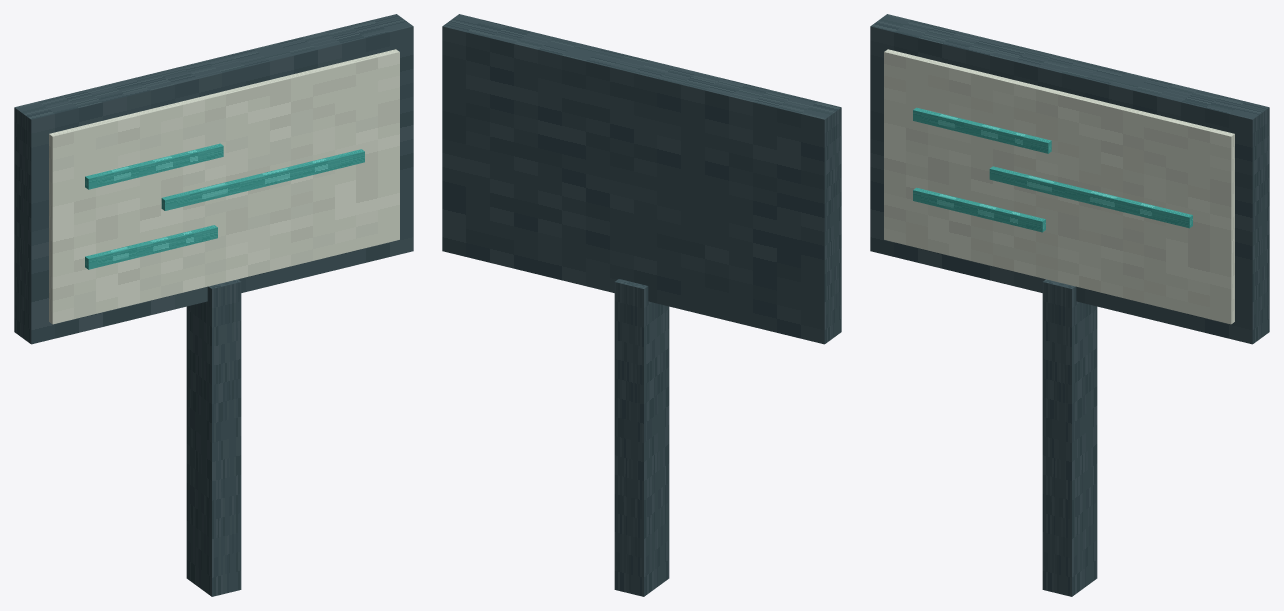
The model's file is whiteboard.glb.
3 renders of one model, left to right at view 1: azimuth 30°, elevation 25°; view 2: azimuth 150°, elevation 25°; view 3: azimuth 330°, elevation 25°, orthographic.
Parts seen in each view (by area): view 1: block-2, block-1, block-0, block-4, block-3, block-5; view 2: block-1, block-0; view 3: block-2, block-1, block-0, block-4, block-3, block-5.
Part boxes in pixels (x1=…): block-2: x1=49, y1=49, x2=399, y2=324; block-1: x1=14, y1=14, x2=413, y2=344; block-0: x1=186, y1=279, x2=241, y2=596; block-4: x1=161, y1=149, x2=364, y2=210; block-3: x1=85, y1=143, x2=223, y2=189; block-5: x1=85, y1=225, x2=217, y2=269; block-1: x1=442, y1=14, x2=841, y2=344; block-0: x1=614, y1=279, x2=669, y2=596; block-2: x1=884, y1=49, x2=1234, y2=324; block-1: x1=870, y1=14, x2=1269, y2=344; block-0: x1=1042, y1=279, x2=1097, y2=596; block-4: x1=989, y1=166, x2=1192, y2=228; block-3: x1=913, y1=107, x2=1051, y2=153; block-5: x1=913, y1=187, x2=1045, y2=232.
Bounding box in the file's own units: 1.3 × 1.68 × 0.1675.
Materials: 3 (3 with a texture image).
